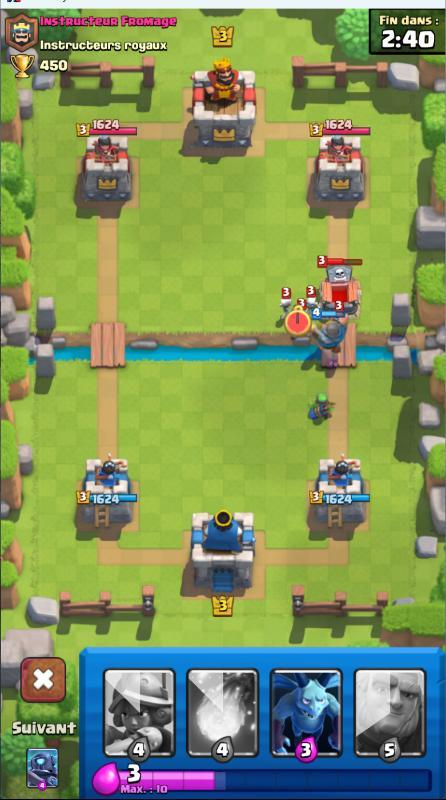enemy_skeletons: (274, 287, 299, 326)
enemy_tombstone: (314, 251, 365, 312)
player_knight: (295, 303, 357, 365)
player_spear_goblins: (304, 386, 337, 424)
